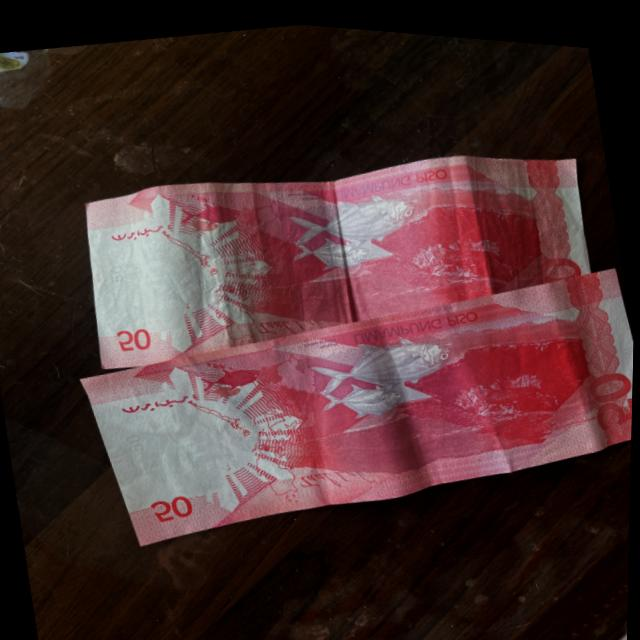50_maliputo: (296, 302, 479, 440), (252, 166, 436, 292)
50_maliputo_watermark: (167, 177, 253, 235), (194, 351, 268, 396)
value_watermark: (116, 422, 156, 463)
watermark: (117, 375, 270, 516)
